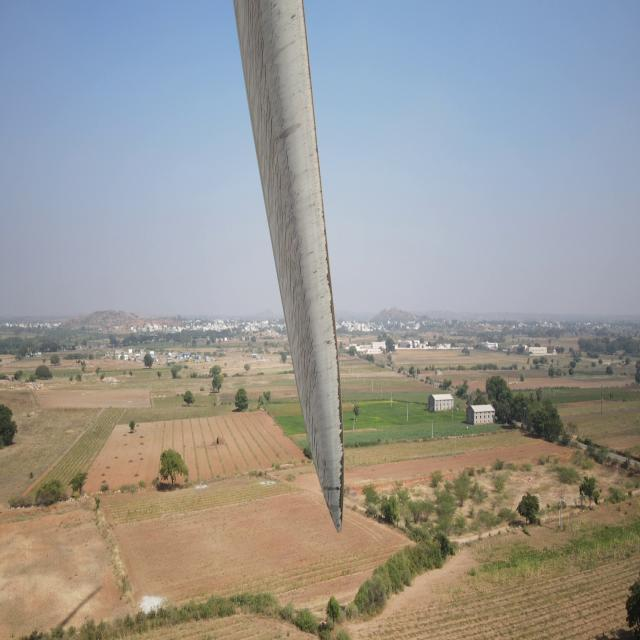Dirt: (231, 0, 346, 526)
Pin Hole: (321, 483, 341, 494)
